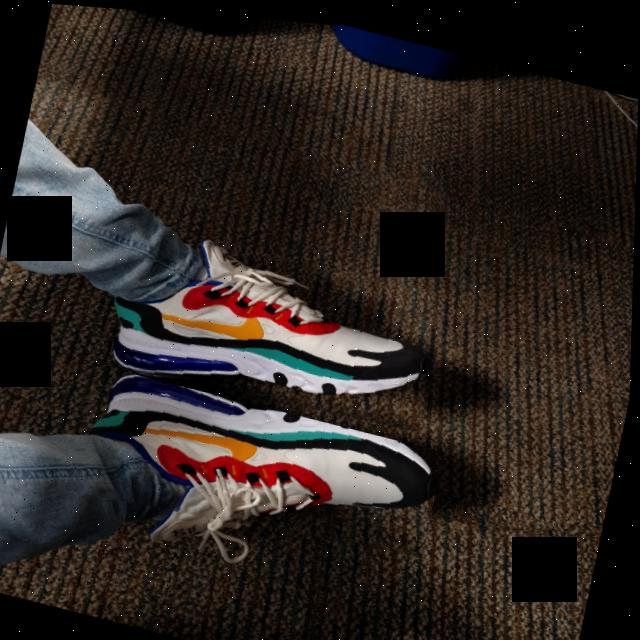shoe: (94, 212, 454, 439), (67, 361, 448, 573)
